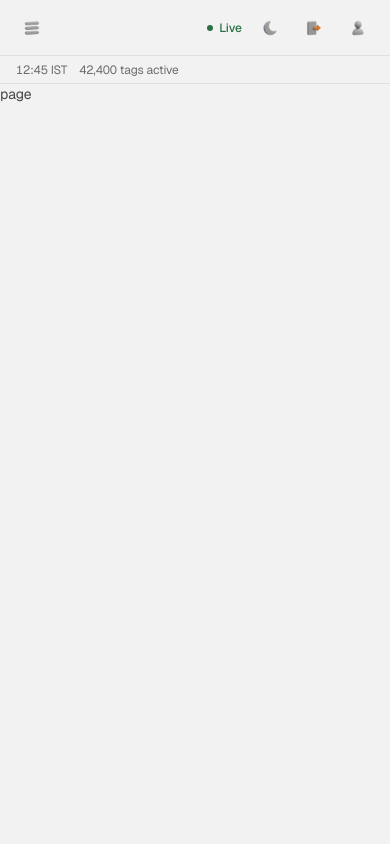
Scenario: mobile navigation drawer › ignores other keys
Click the button named "Open navigation" at x=32, y=28, box [16,12,48,44]
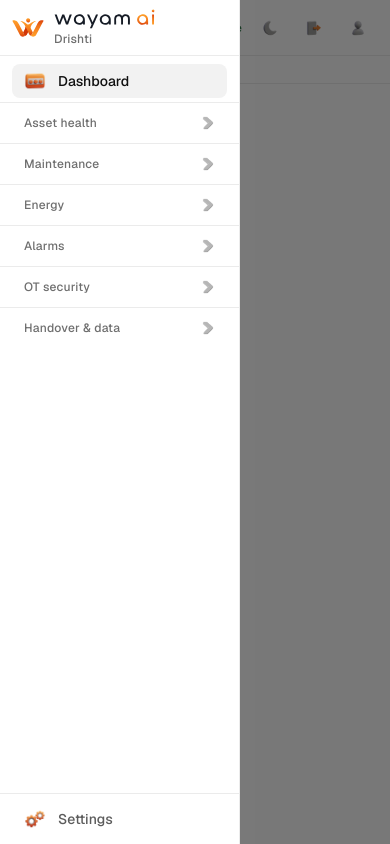
Check: the button named "Close navigation" is shown
